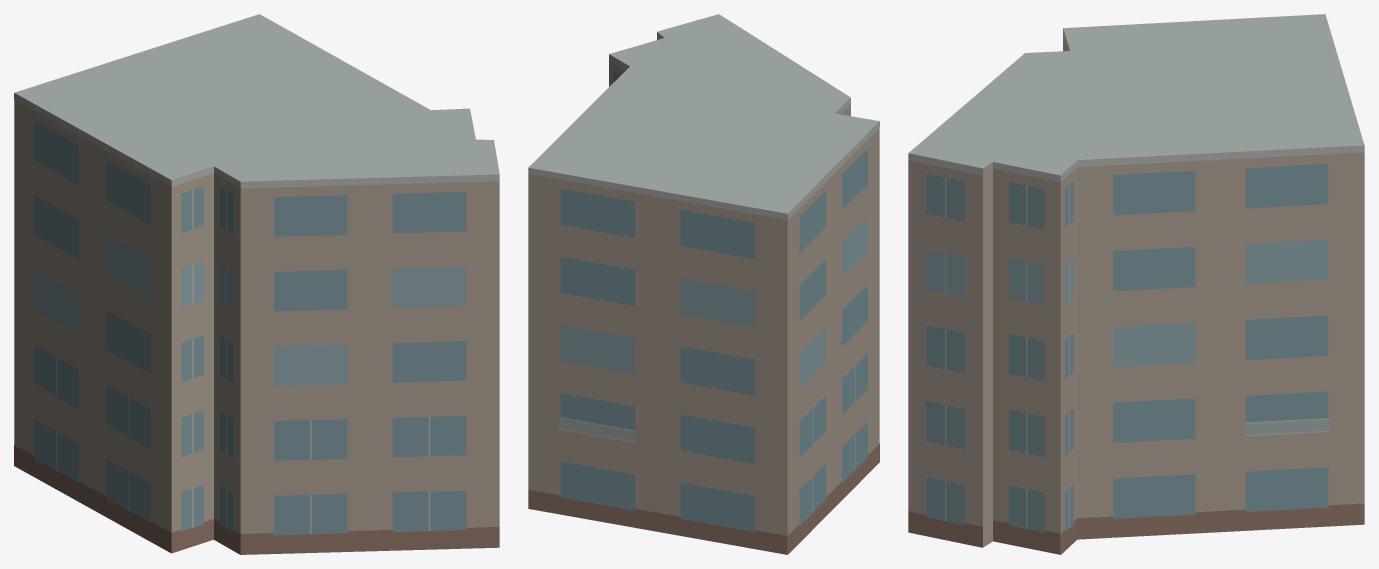
File: survey-upis-32530999.glb
The picture shows the model from 3 angles, left to right: view 1: azimuth 30°, elevation 25°; view 2: azimuth 150°, elevation 25°; view 3: azimuth 270°, elevation 25°; orthographic projection. The views are drawn at different scales.
Visible parts, largest first — view 1: survey-upis-32530999.tmp; view 2: survey-upis-32530999.tmp; view 3: survey-upis-32530999.tmp.
Part boxes in pixels (x1,y1,x2,y2): survey-upis-32530999.tmp: (14,14,499,554); survey-upis-32530999.tmp: (528,14,879,554); survey-upis-32530999.tmp: (908,14,1364,554).
Size of the model in its own units: 12.07 by 13.2 by 14.4.
